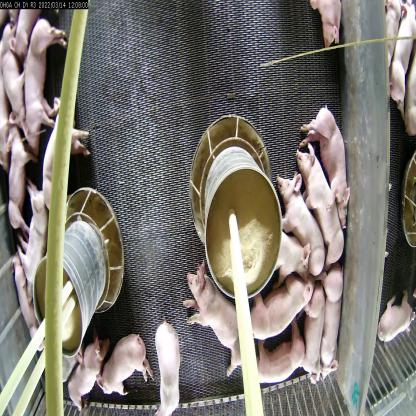Pig: (33, 96, 98, 213), (298, 146, 350, 274), (179, 265, 248, 361), (304, 105, 351, 225), (23, 24, 63, 152), (239, 277, 311, 347), (280, 174, 326, 280), (2, 134, 35, 268), (242, 339, 309, 404), (149, 326, 192, 413), (98, 330, 149, 400), (322, 270, 346, 398), (0, 47, 34, 131), (266, 215, 314, 271), (301, 288, 326, 381), (72, 333, 95, 414), (22, 186, 40, 285)
